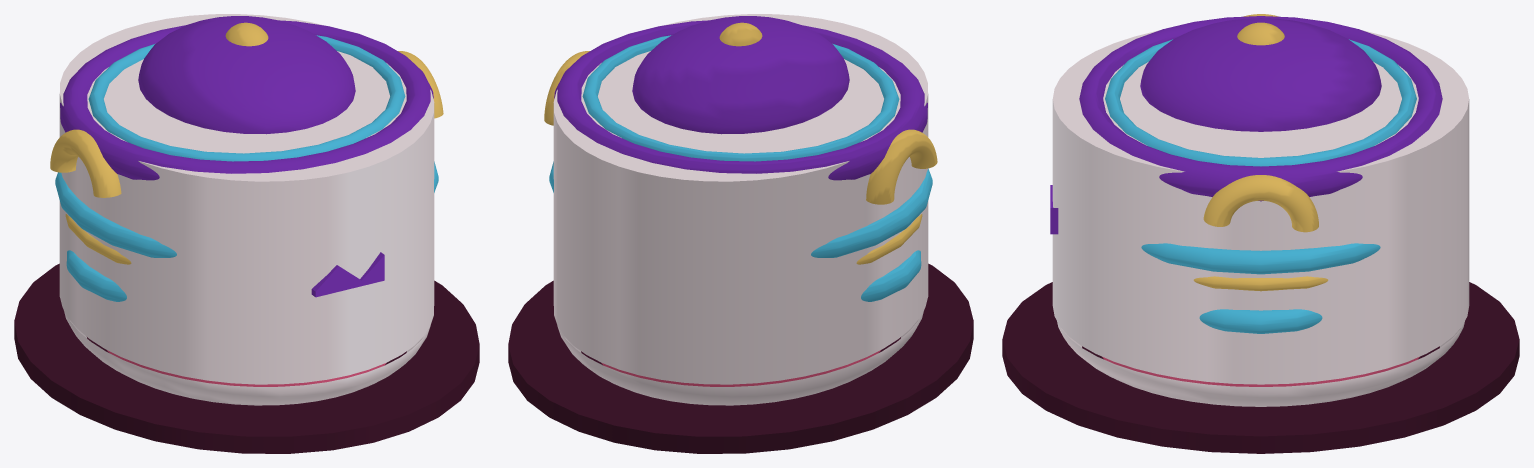
Rendered from 1185_唐图鉴_唐立狮宝花纹锦.glb.
3 renders of one model, left to right at view 1: azimuth 30°, elevation 25°; view 2: azimuth 150°, elevation 25°; view 3: azimuth 270°, elevation 25°, orthographic. The views are drawn at different scales.
Visible parts, largest first — view 1: card_1185; view 2: card_1185; view 3: card_1185.
Part boxes in pixels (box(x1,y1,x2,y2)): card_1185: box(14, 14, 479, 453); card_1185: box(508, 14, 973, 453); card_1185: box(1002, 14, 1519, 453).
Size of the model in its own units: 1.21 by 1 by 1.35.
